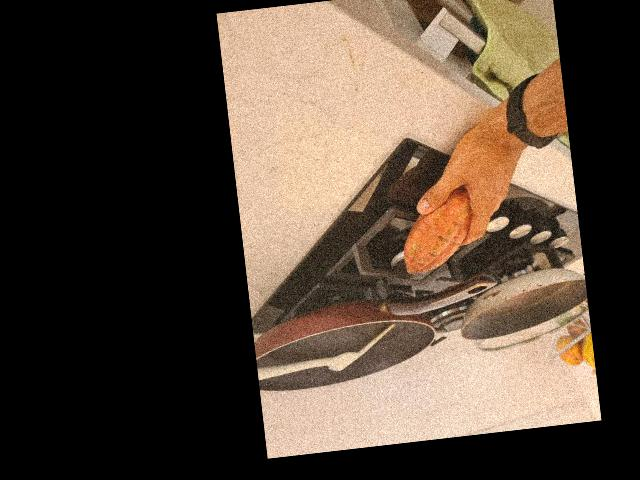sweet_potato: (393, 181, 477, 275)
